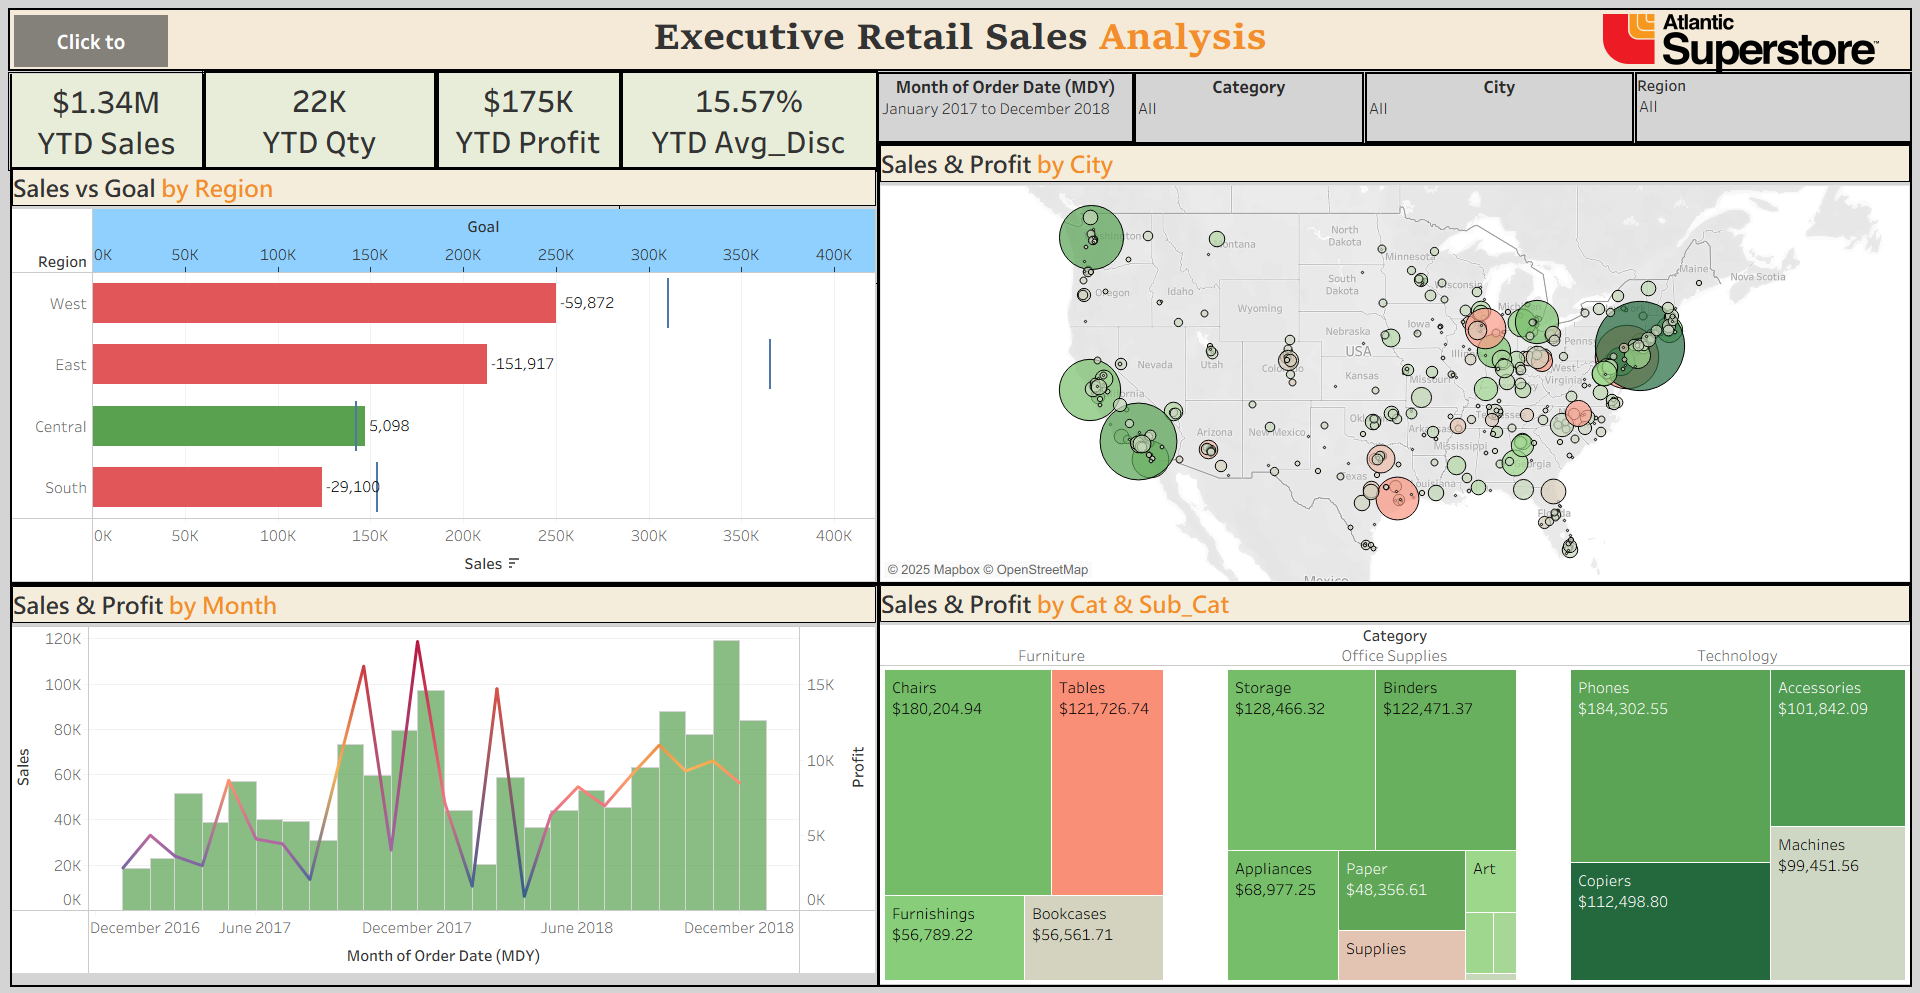

The dashboard page shown, as its layout file describes it:
{"tool":"tableau","page":{"name":"Dashboard 1","canvas":[1000,1000],"units":"permille","ordinal":0},"visuals":[{"type":"title","box":[4.8,10,990.3,63.6]},{"type":"image","param":"Image/atlantic-superstore-2017.svg","box":[834.6,13.7,158.7,59.9]},{"type":"dashboard-object","box":[7.2,15,80.3,52.4]},{"type":"worksheet","title":"Quantity","mark":"Automatic","box":[105,69.9,122.5,116.1]},{"type":"worksheet","title":"Profit","mark":"Automatic","box":[226.3,69.9,97.2,119.9]},{"type":"worksheet","title":"Discount","mark":"Automatic","box":[322.3,69.9,135.2,216]},{"type":"worksheet","title":"Sales","mark":"Automatic","box":[4.2,72.4,102.6,99.9]},{"type":"filter","title":"Time_Series","param":"[federated.0xhq3lh1d73h9h12l06ax1aoxa5d].[tmn:Order Date (MDY):qk]","box":[456.9,72.4,134,71.2]},{"type":"filter","title":"Tree_Map","param":"[federated.0xhq3lh1d73h9h12l06ax1aoxa5d].[none:Category:nk]","box":[590.8,72.4,119.5,72.4]},{"type":"filter","title":"City_Wise","param":"[federated.0xhq3lh1d73h9h12l06ax1aoxa5d].[none:City:nk]","box":[710.9,72.4,140,71.2]},{"type":"filter","title":"Region_Wise","param":"[federated.0xhq3lh1d73h9h12l06ax1aoxa5d].[none:Region:nk]","box":[851.5,72.4,144.2,71.2]},{"type":"worksheet","title":"City_Wise","mark":"Automatic","box":[457.1,143.6,538.7,444.4]},{"type":"worksheet","title":"Region_Wise","mark":"Automatic","rows":["Region"],"cols":["Sales","Goal"],"box":[5.5,168.5,452.1,419.5]},{"type":"worksheet","title":"Tree_Map","mark":"Automatic","cols":["Category"],"box":[457.1,586.8,538.7,407]},{"type":"worksheet","title":"Time_Series","mark":"Automatic","rows":["Sales","Profit"],"cols":["Order Date (MDY)"],"box":[5.4,588,452.3,405.7]}]}

Visuals, with their boxes on the dashboard's canvas, which has no fixed pixel size, in thousandths of its width and height (x1, y1, x2, y2). These are canvas units, not pixel positions in the 1920x993 screenshot, which may show the page scaled, cropped or inside an application window:
title: locate(5, 10, 995, 74)
image: locate(835, 14, 993, 74)
dashboard-object: locate(7, 15, 88, 67)
"Quantity" worksheet: locate(105, 70, 228, 186)
"Profit" worksheet: locate(226, 70, 324, 190)
"Discount" worksheet: locate(322, 70, 458, 286)
"Sales" worksheet: locate(4, 72, 107, 172)
"Time_Series" filter: locate(457, 72, 591, 144)
"Tree_Map" filter: locate(591, 72, 710, 145)
"City_Wise" filter: locate(711, 72, 851, 144)
"Region_Wise" filter: locate(852, 72, 996, 144)
"City_Wise" worksheet: locate(457, 144, 996, 588)
"Region_Wise" worksheet: locate(6, 168, 458, 588)
"Tree_Map" worksheet: locate(457, 587, 996, 994)
"Time_Series" worksheet: locate(5, 588, 458, 994)
